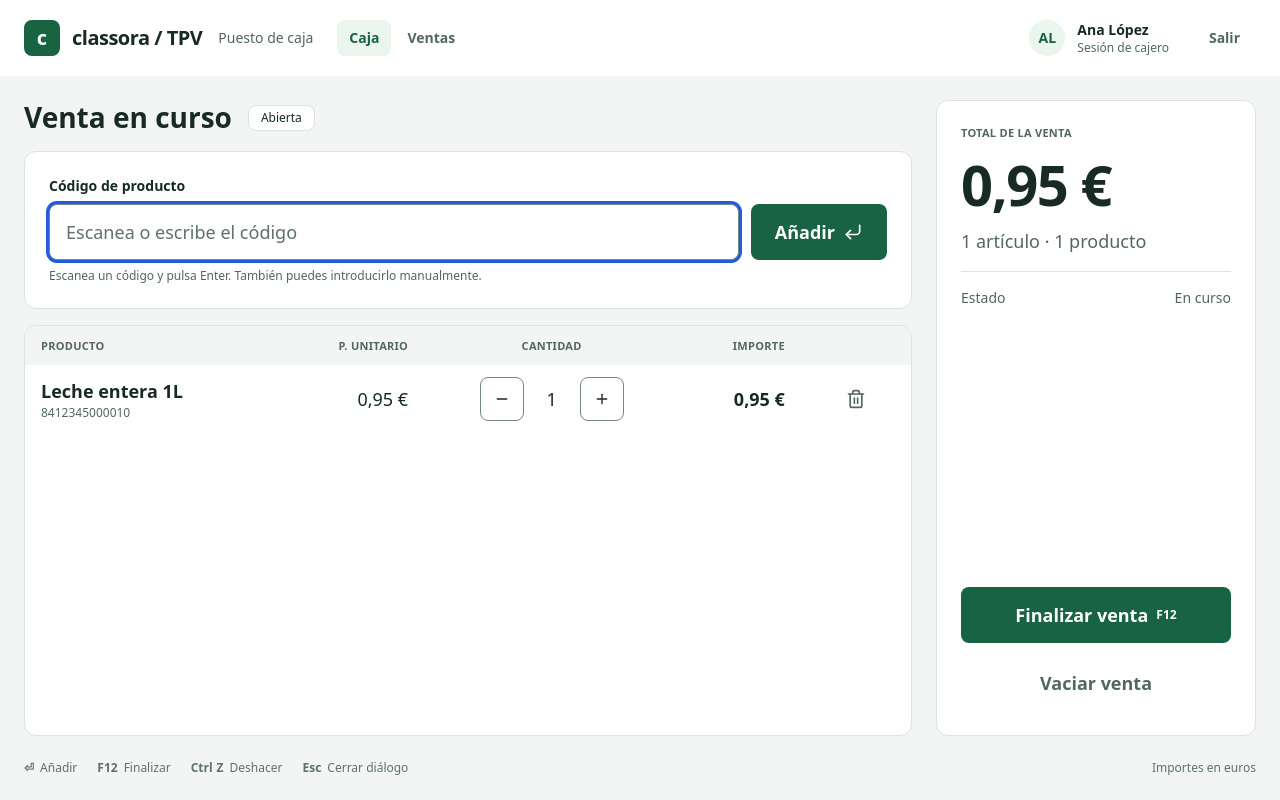
Test case: Checkout: Screen Integration › should keep the completed sale with "Nueva venta" when the next sale cannot be opened
Expected: the field labelled "Código de producto" is enabled, [49,204,739,260]
Click the button "Finalizar venta F12".
click(1096, 615)  # box [961,587,1231,643]
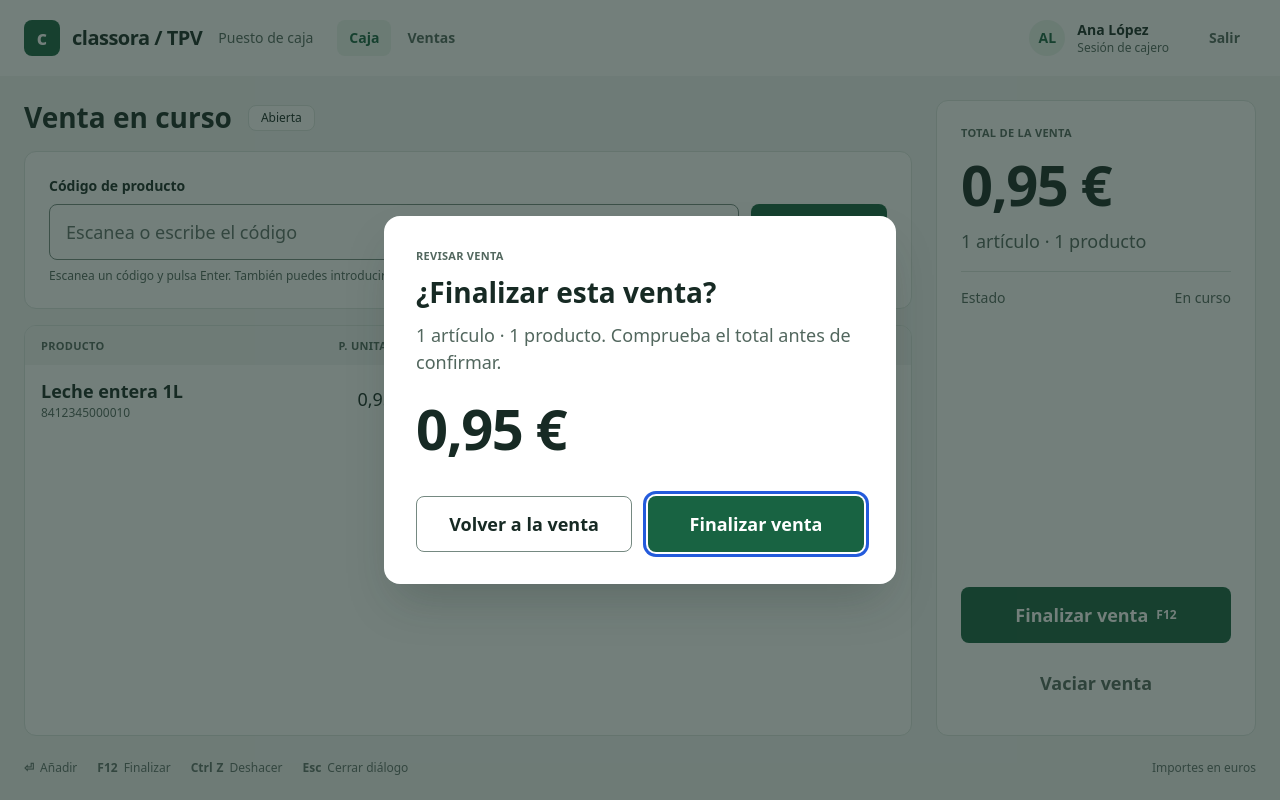
Click the button "Finalizar venta".
click(756, 524)  # box [648,496,864,552]
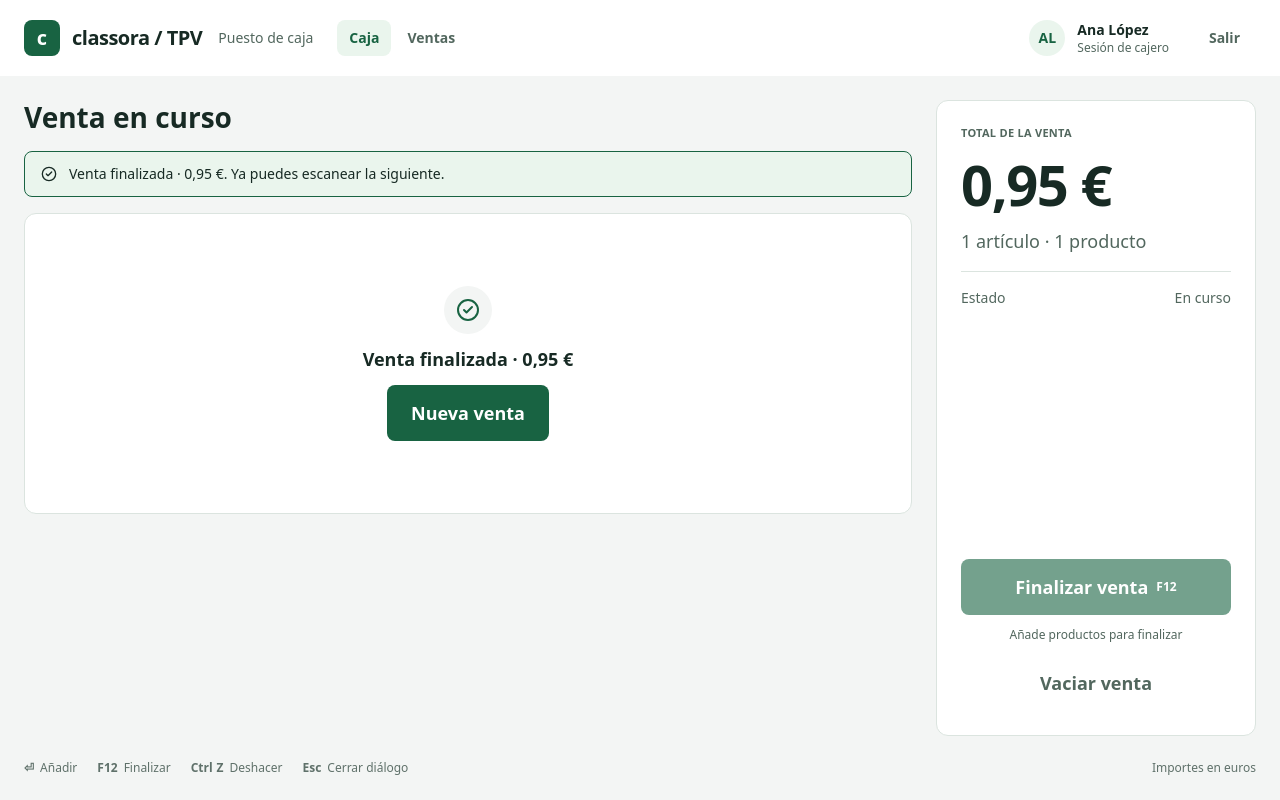
Click the button "Nueva venta".
click(468, 413)  # box [387,385,549,441]
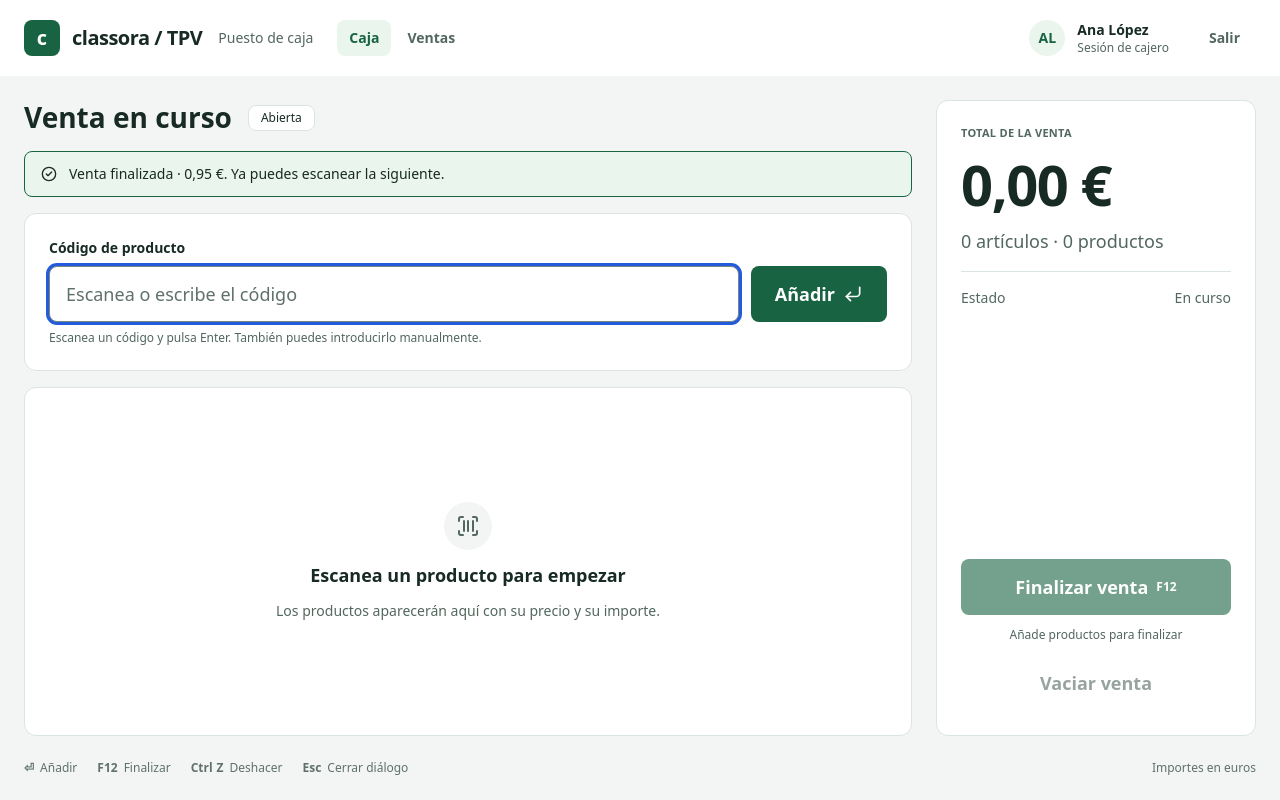
Expected: the text "Escanea un producto para empezar" is shown, [310,562,626,589]
